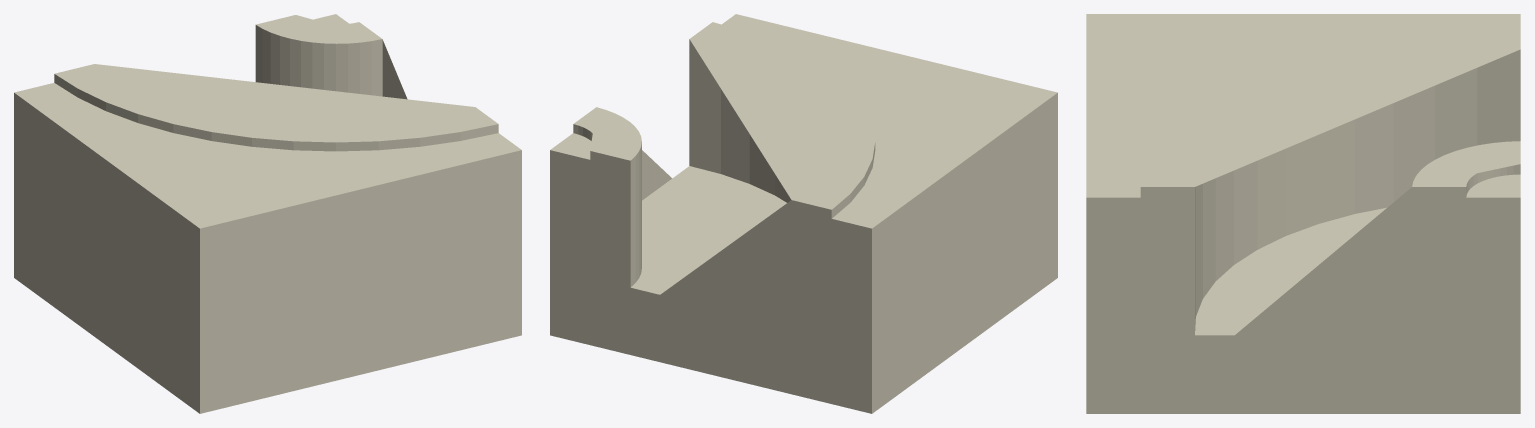
Rendered from roadtile_172.glb.
3 views of the same model, side by side, from view 1: azimuth 30°, elevation 25°; view 2: azimuth 150°, elevation 25°; view 3: azimuth 270°, elevation 25° (orthographic). The views are drawn at different scales.
Visible parts, largest first — view 1: Mesh1 Group1 Model; view 2: Mesh1 Group1 Model; view 3: Mesh1 Group1 Model.
Part boxes in pixels (x1=…): Mesh1 Group1 Model: x1=14, y1=14, x2=521, y2=413; Mesh1 Group1 Model: x1=550, y1=14, x2=1057, y2=413; Mesh1 Group1 Model: x1=1086, y1=14, x2=1520, y2=413.
Size of the model in its own units: 3 by 1.73 by 3.
